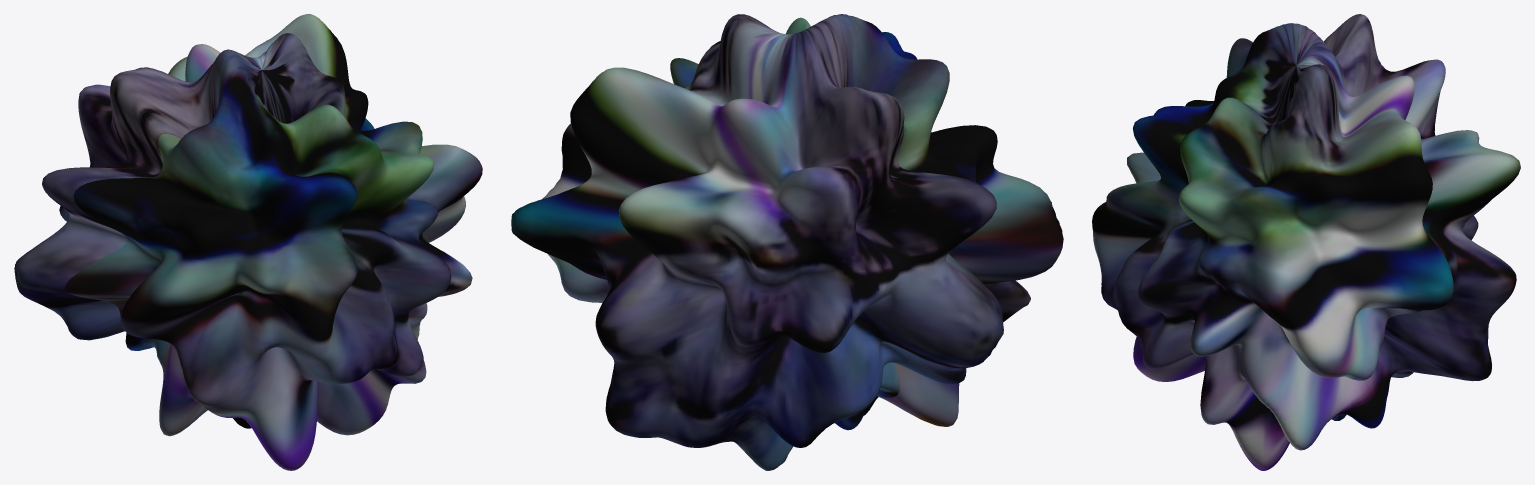
File: cuerpo-de-agua.glb
3 views of the same model, side by side, from view 1: azimuth 30°, elevation 25°; view 2: azimuth 150°, elevation 25°; view 3: azimuth 270°, elevation 25° (orthographic). The views are drawn at different scales.
Parts seen in each view (by area): view 1: Esfera; view 2: Esfera; view 3: Esfera.
Boxes of the visible parts, bbox=[...] form: Esfera: bbox=[14, 14, 482, 470]; Esfera: bbox=[511, 14, 1063, 470]; Esfera: bbox=[1092, 14, 1520, 470].
Bounding box in the file's own units: 7.27 × 6.49 × 6.45.
Materials: 1 (1 with a texture image).
